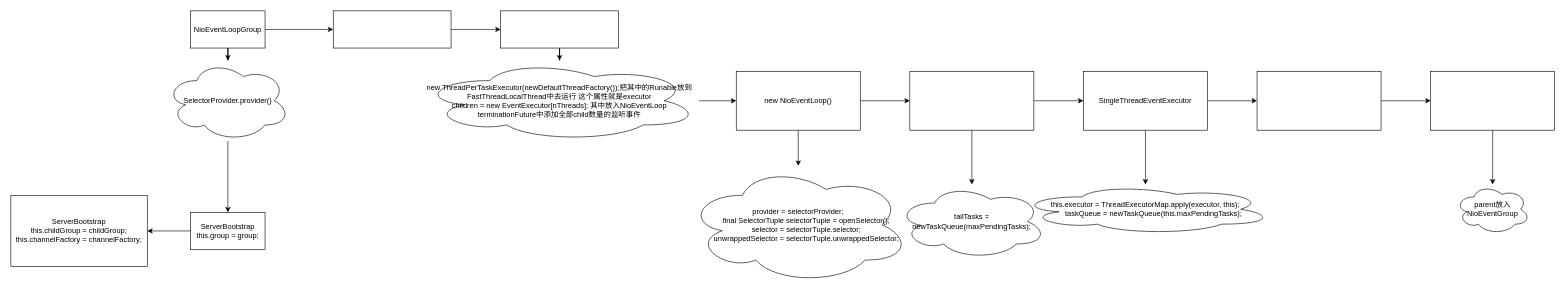
Image size: 1566x295. Some labels were removed from this diagram. Each missing label, with the centre of its shape:
"AbstractEventExecutor" goes at pixel 1492 100.
"AbstractScheduledEventExecutor" goes at pixel 1318 100.
"MultithreadEventExecutorGroup" goes at pixel 559 29.
"MultithreadEventLoopGroup" goes at pixel 392 29.
"SingleThreadEventLoop" goes at pixel 971 100.
